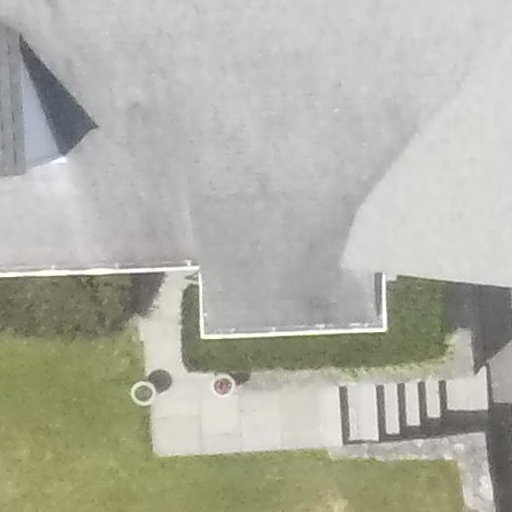container: (130, 379, 158, 410), (208, 369, 236, 399)
